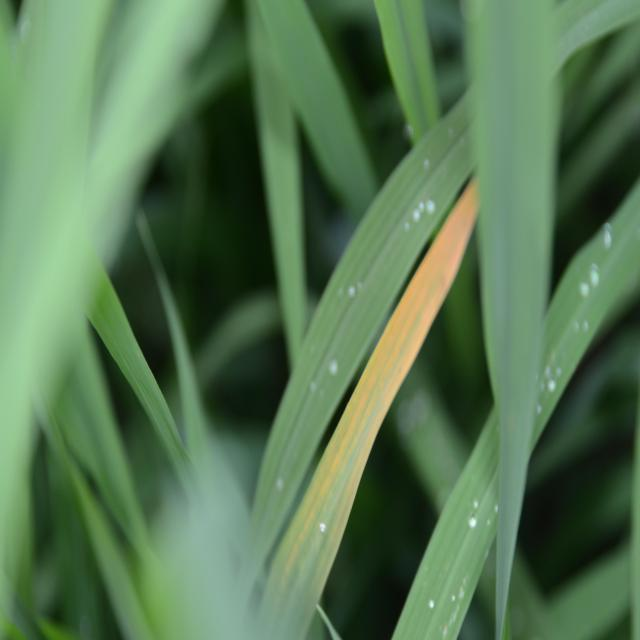Rice Tungro: (288, 202, 474, 640)
